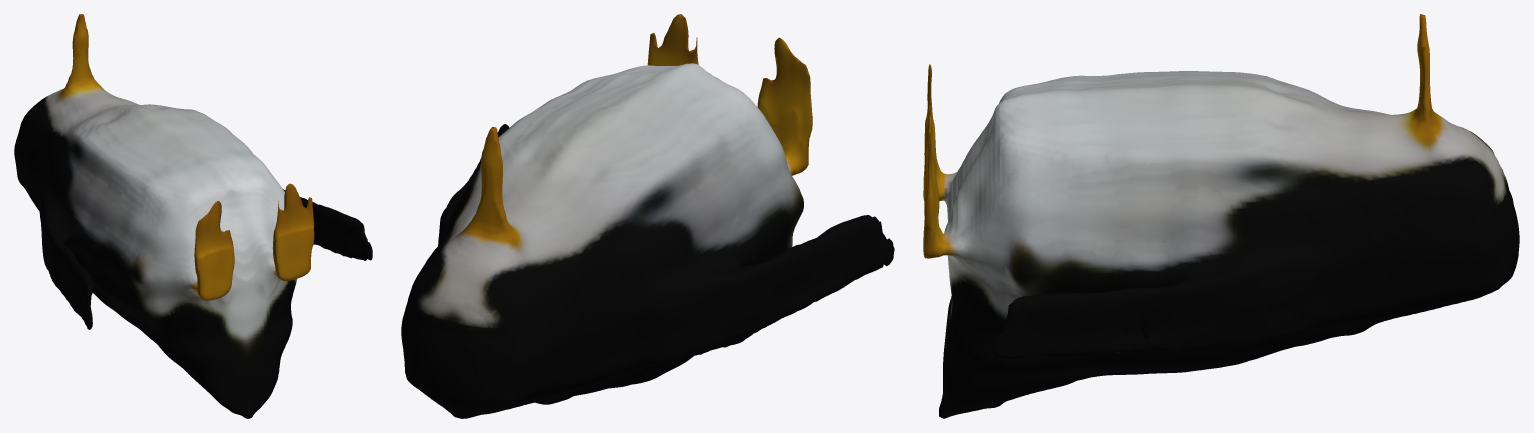
Rendered from a_penguin.FBX.
The picture shows the model from 3 angles, left to right: view 1: azimuth 30°, elevation 25°; view 2: azimuth 150°, elevation 25°; view 3: azimuth 270°, elevation 25°; orthographic projection. The views are drawn at different scales.
Parts seen in each view (by area): view 1: plyFile; view 2: plyFile; view 3: plyFile.
Part boxes in pixels (x1,y1,x2,y2): plyFile: [14, 14, 372, 418]; plyFile: [401, 14, 894, 418]; plyFile: [923, 14, 1519, 418].
Size of the model in its own units: 155 by 148 by 198.
